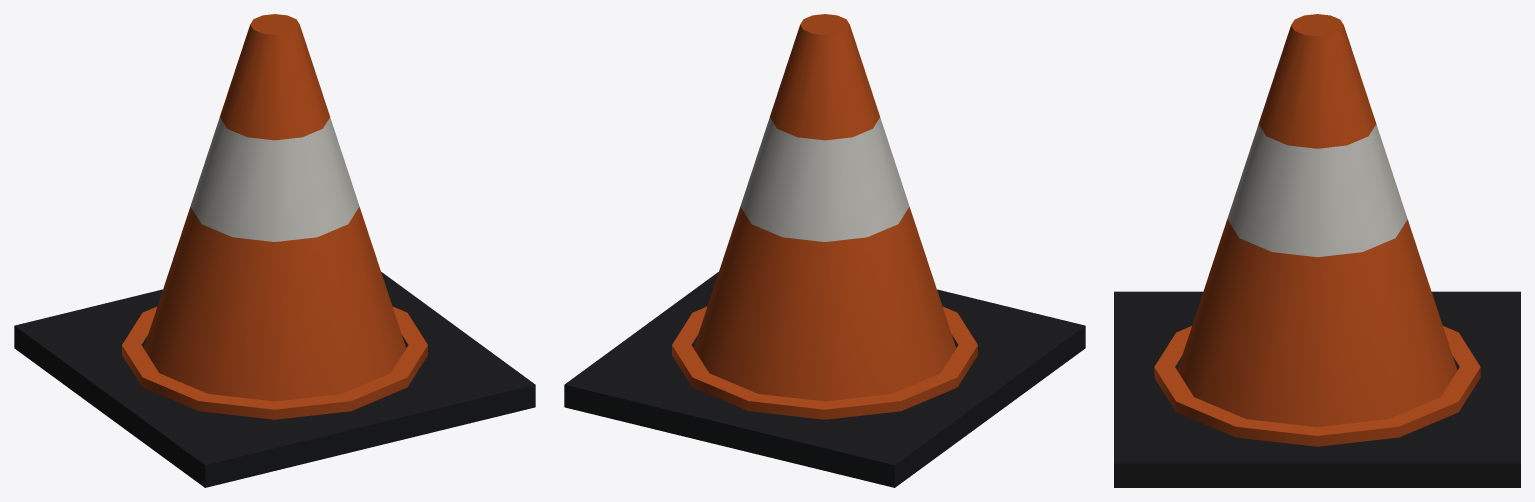
Rendered from sign.cone.orange.glb.
3 renders of one model, left to right at view 1: azimuth 30°, elevation 25°; view 2: azimuth 150°, elevation 25°; view 3: azimuth 270°, elevation 25°, orthographic. The views are drawn at different scales.
Parts seen in each view (by area): view 1: sign_cone_orange; view 2: sign_cone_orange; view 3: sign_cone_orange.
Part boxes in pixels (x1,y1,x2,y2): sign_cone_orange: [14, 14, 535, 487]; sign_cone_orange: [564, 14, 1085, 487]; sign_cone_orange: [1114, 14, 1520, 487].
Size of what is drawn, in the model's own units: 0.685 by 0.7 by 0.685.
